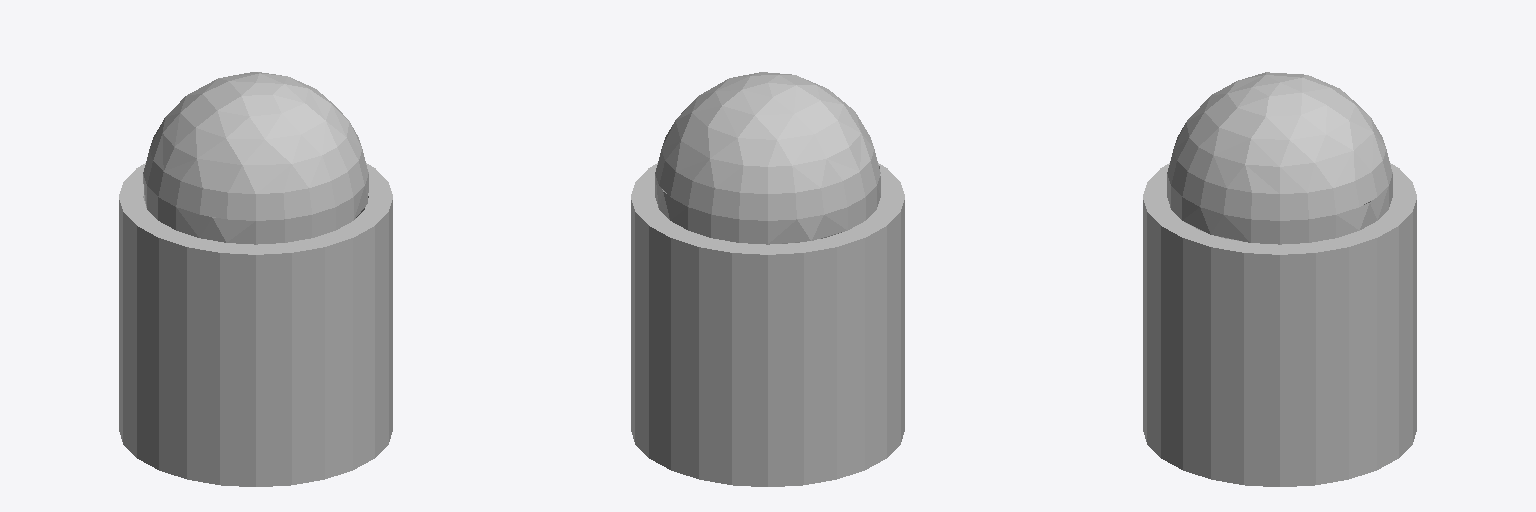
The model's file is simpleman1.obj.
3 renders of one model, left to right at view 1: azimuth 30°, elevation 25°; view 2: azimuth 150°, elevation 25°; view 3: azimuth 270°, elevation 25°, orthographic.
Parts seen in each view (by area): view 1: SketchUp_ID2, SketchUp.001_ID10; view 2: SketchUp_ID2, SketchUp.001_ID10; view 3: SketchUp_ID2, SketchUp.001_ID10.
Part boxes in pixels (x1,y1,x2,y2): SketchUp_ID2: (119,163,392,486); SketchUp.001_ID10: (143,72,368,244); SketchUp_ID2: (631,163,904,486); SketchUp.001_ID10: (655,72,880,244); SketchUp_ID2: (1143,163,1416,486); SketchUp.001_ID10: (1167,72,1392,244).
Bounding box in the file's own units: 2.18 × 3.04 × 2.18.